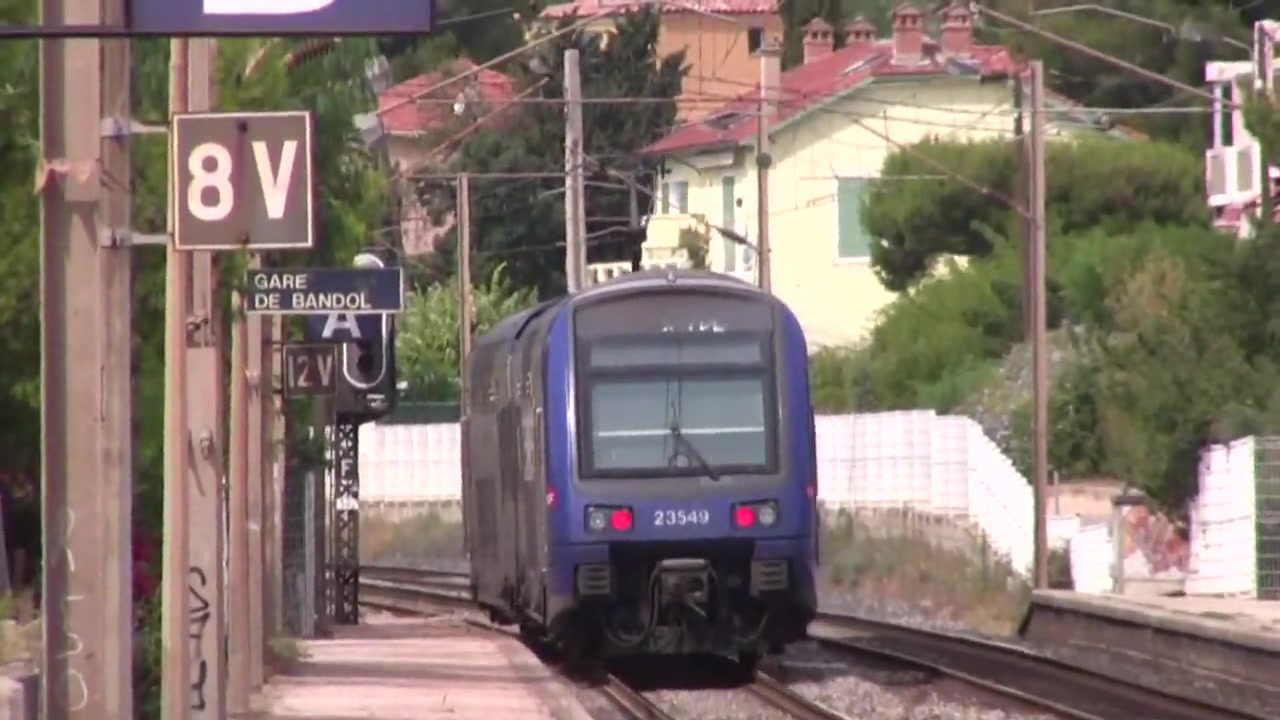train: (459, 267, 818, 679)
